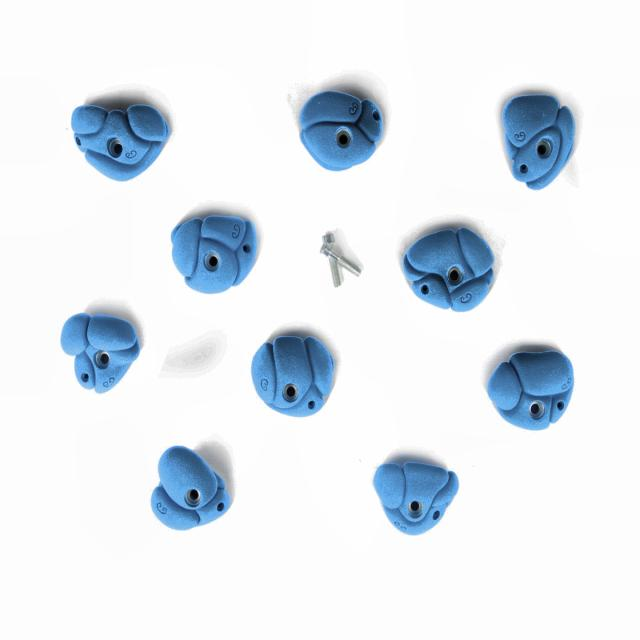Hold: (480, 348, 582, 436), (296, 85, 385, 177), (407, 222, 493, 316), (249, 334, 334, 426), (147, 445, 236, 530), (60, 312, 143, 403), (376, 449, 461, 536), (167, 216, 260, 293), (502, 100, 580, 191), (70, 112, 171, 179)
